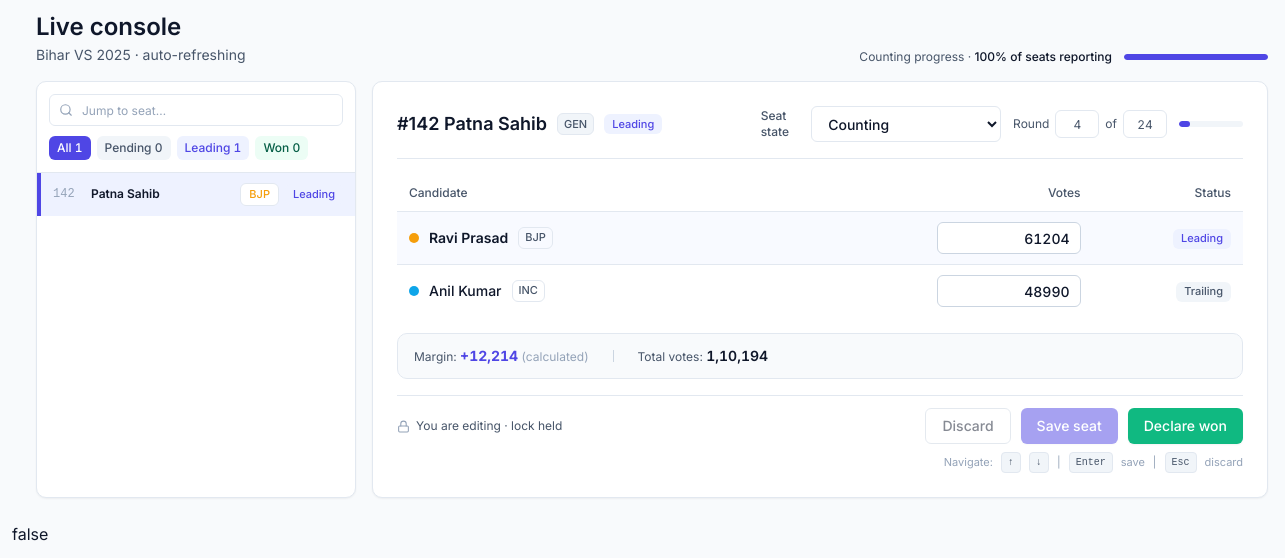
Test: LiveConsole page › Save seat is disabled while the seat is clean, enabled after an edit
Expected: the button "Save seat" is disabled, left=1021, top=408, right=1118, bottom=444
Replace the text in the field named "Votes for Anil Kumar" with "50,000": (1008, 291) left=936, top=275, right=1080, bottom=307
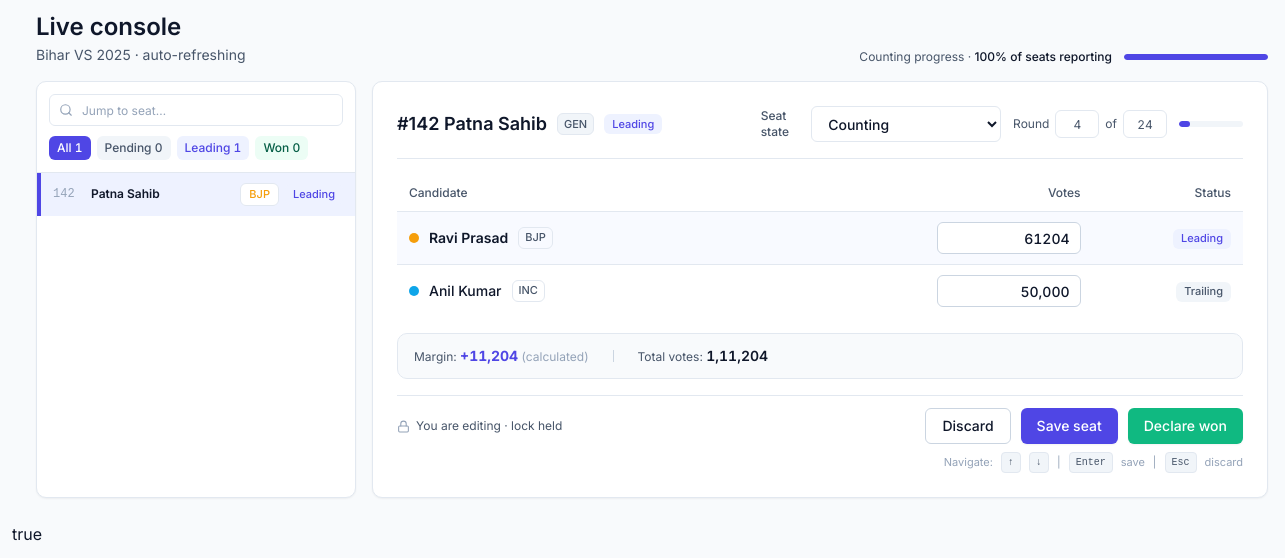
Expected: the button "Save seat" is enabled, left=1021, top=408, right=1118, bottom=444
